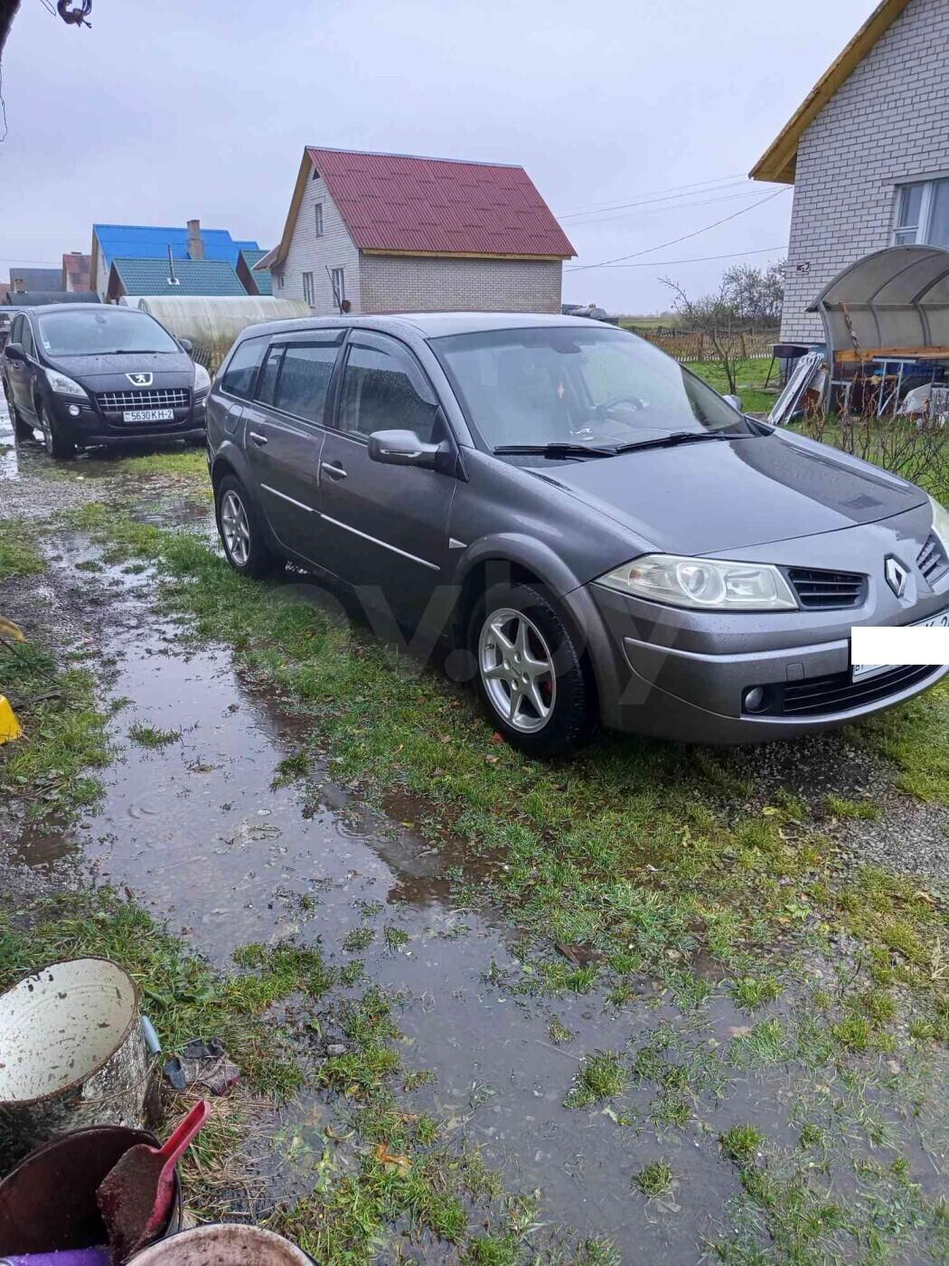Megane_2005-2009: (202, 309, 949, 758)
